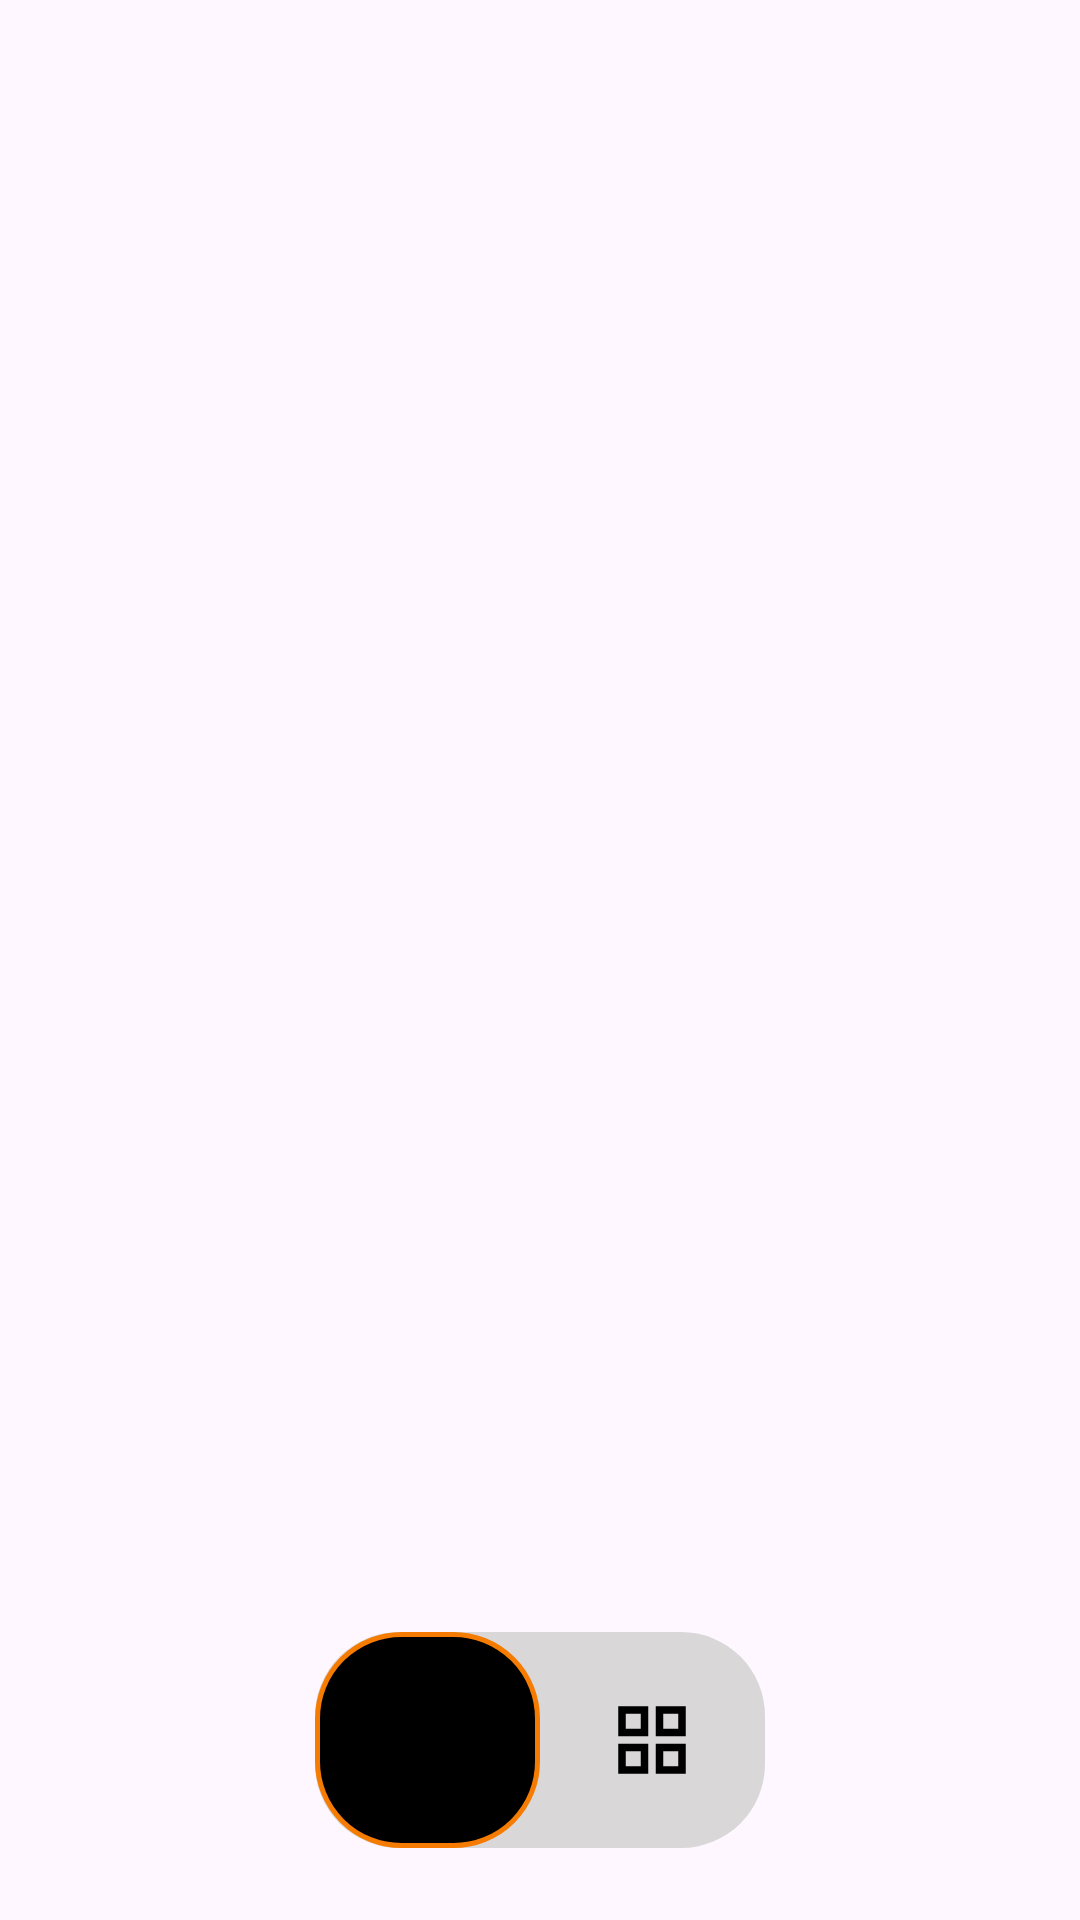

Icon bounding boxes for this 1080px×1920px phone screenshot, format (x1, y1, x2, y2):
grid: (618, 1706, 686, 1774)
